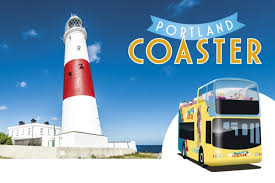bus: (177, 77, 263, 168)
